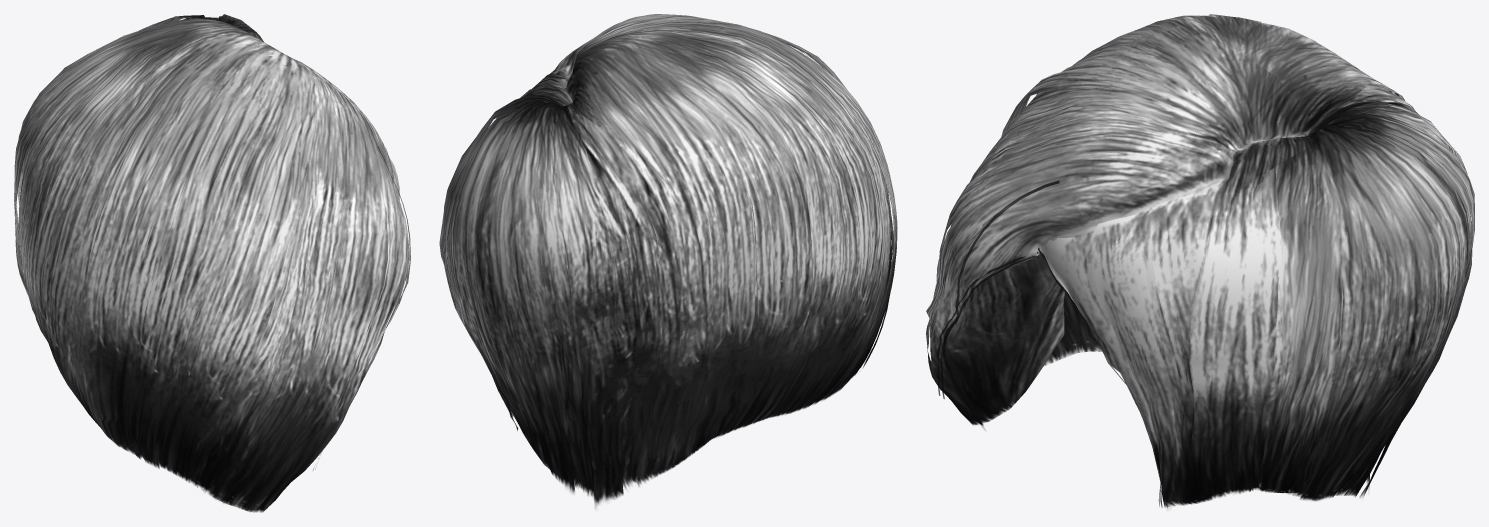
Rendered from hair_bob01.gltf.
3 views of the same model, side by side, from view 1: azimuth 30°, elevation 25°; view 2: azimuth 150°, elevation 25°; view 3: azimuth 270°, elevation 25° (orthographic). The views are drawn at different scales.
Parts seen in each view (by area): view 1: hair_bob01; view 2: hair_bob01; view 3: hair_bob01.
Boxes of the visible parts, left/top/right/bottom form: hair_bob01: left=14, top=14, right=410, bottom=512; hair_bob01: left=439, top=14, right=897, bottom=507; hair_bob01: left=926, top=14, right=1474, bottom=508.
Bounding box in the file's own units: 0.2202 × 0.2477 × 0.2699.
Materials: 1 (1 with a texture image).
